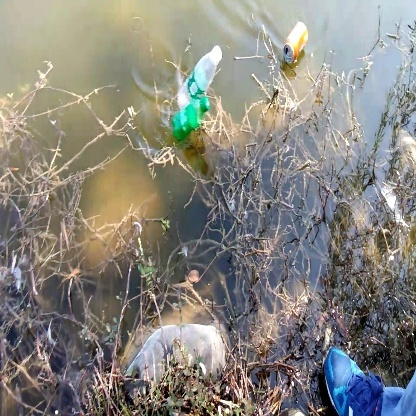bottle: (164, 43, 228, 104), (278, 17, 314, 67)
